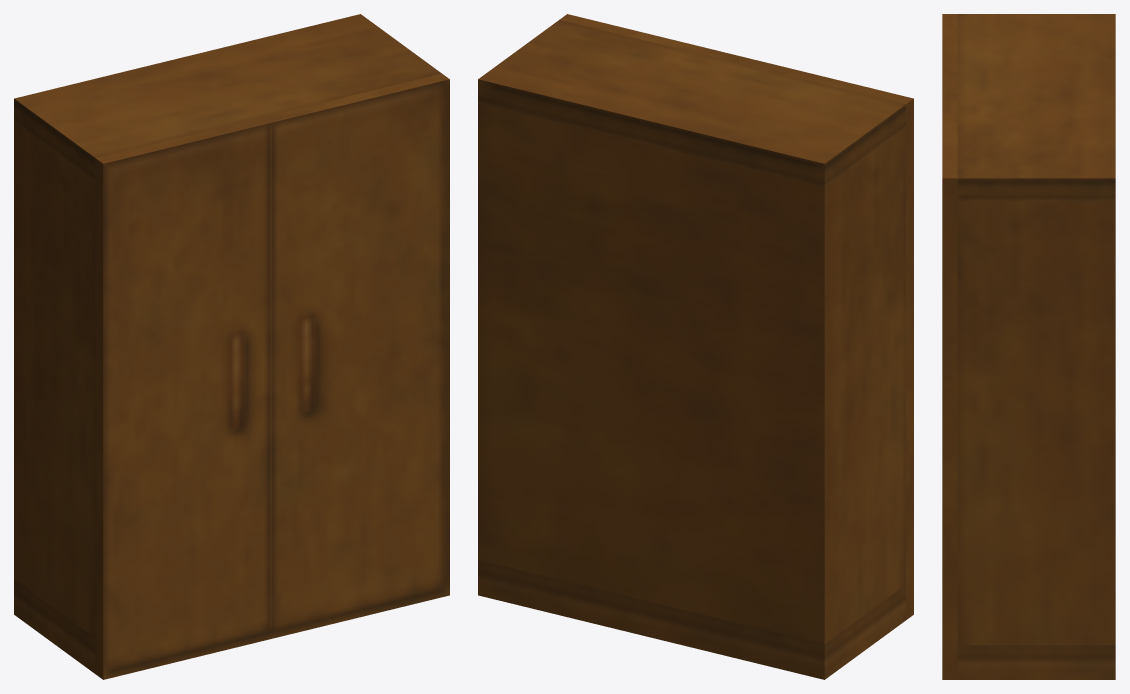
The model's file is Closet.fbx.
The picture shows the model from 3 angles, left to right: view 1: azimuth 30°, elevation 25°; view 2: azimuth 150°, elevation 25°; view 3: azimuth 270°, elevation 25°; orthographic projection. The views are drawn at different scales.
Parts seen in each view (by area): view 1: ClosetDoorR, ClosetDoorL, Closet; view 2: Closet, ClosetDoorL, ClosetDoorR; view 3: Closet, ClosetDoorR, ClosetDoorL.
Boxes of the visible parts, left/top/right/bottom form: ClosetDoorR: left=264, top=73, right=449, bottom=638; ClosetDoorL: left=95, top=117, right=271, bottom=679; Closet: left=14, top=14, right=441, bottom=673; Closet: left=478, top=20, right=905, bottom=679; ClosetDoorL: left=738, top=57, right=913, bottom=619; ClosetDoorR: left=559, top=14, right=744, bottom=62; Closet: left=957, top=14, right=1115, bottom=679; ClosetDoorR: left=942, top=94, right=957, bottom=679; ClosetDoorL: left=942, top=14, right=957, bottom=93.
Size of the model in its own units: 390 by 174 by 556.
